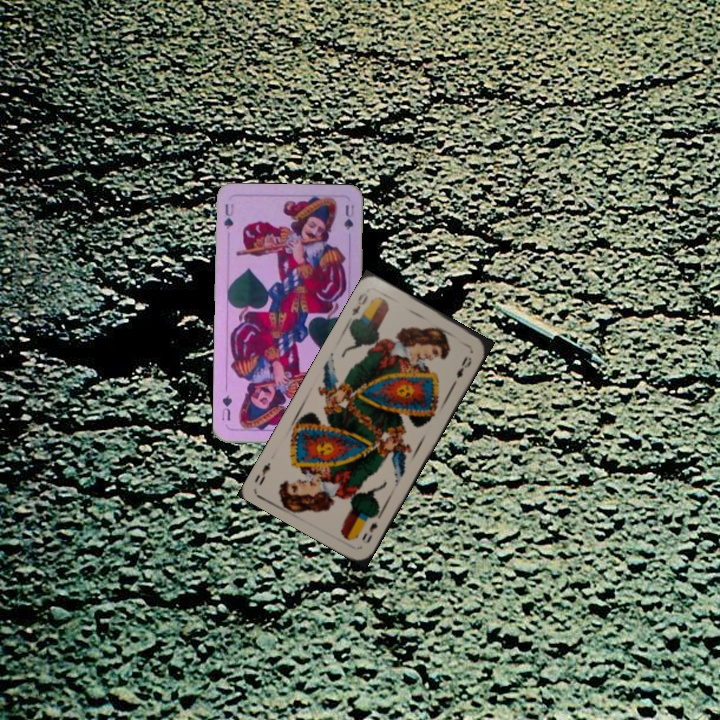EO: (358, 510, 383, 546), (348, 288, 371, 318)
GU: (220, 200, 237, 231)
